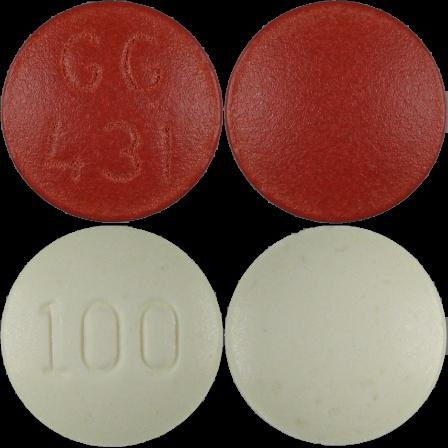35356-742: (0, 0, 224, 224)
